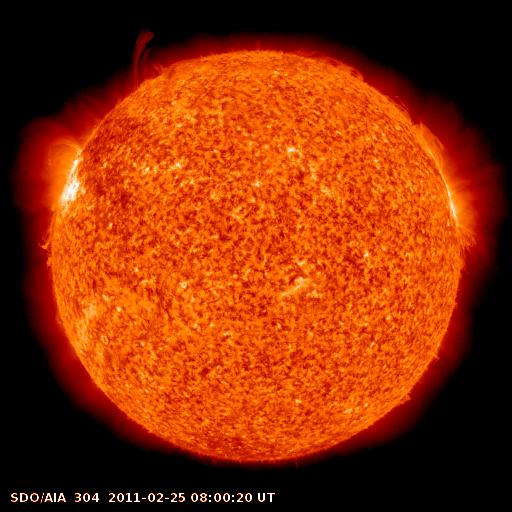prominence: (382, 87, 449, 165), (119, 21, 181, 92), (286, 38, 371, 88), (27, 216, 64, 272)
